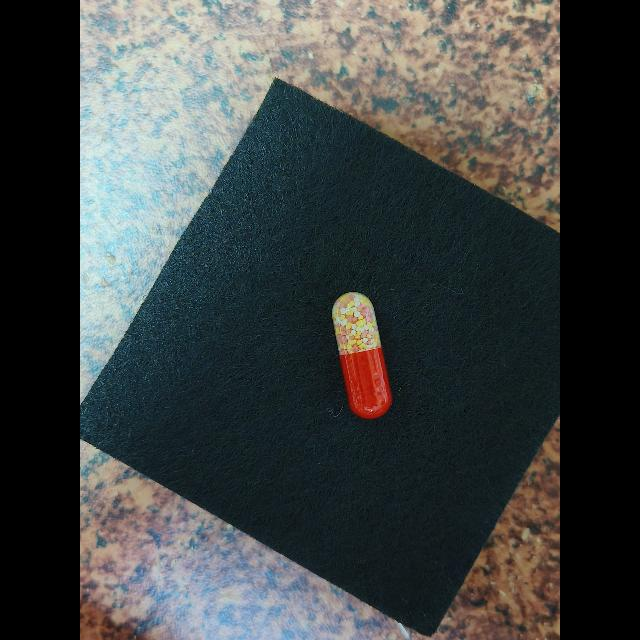Intact Capsule: (332, 292, 392, 419)
